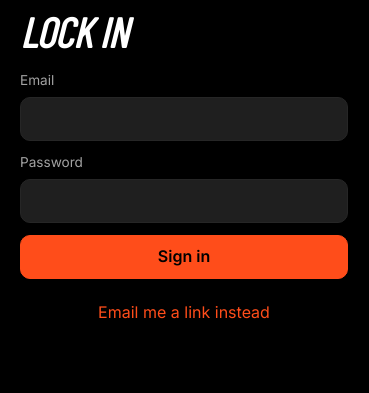
Test: SignIn › an unexpected error never shows its raw text
Type "a@b.co" into the field labelled "Email" at (184,119), box [20,97,348,141]
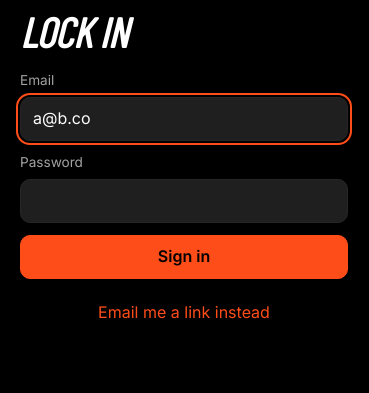
Type "x" into the password field labelled "Password" at (184,200), box [20,178,348,222]
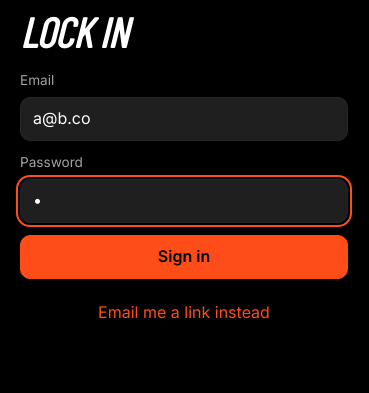
Click the button "Sign in" at (184,256), box [20,234,348,278]
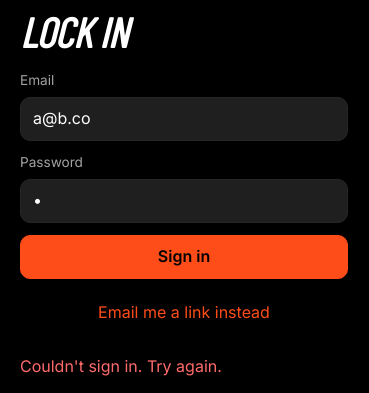
expect the message reads "Couldn't sign in. Try again.": met, box [20,356,222,376]
